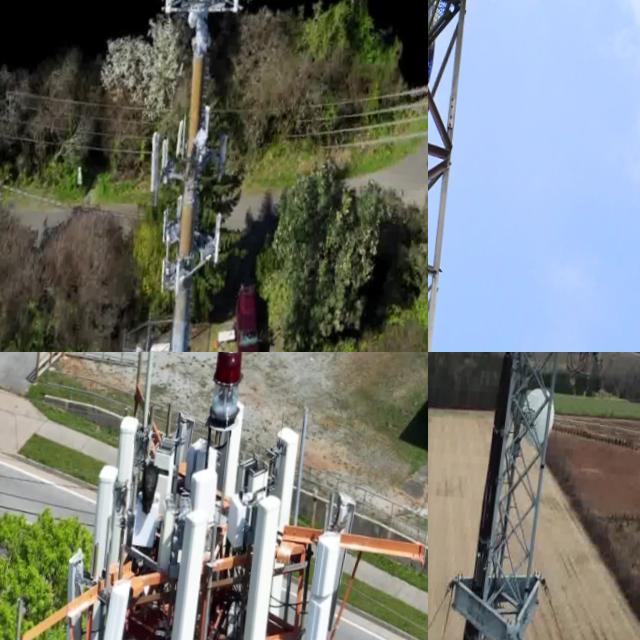GSM Antenna: (231, 494, 289, 640), (157, 498, 214, 640), (263, 416, 306, 551), (298, 525, 344, 640), (47, 540, 92, 640), (87, 461, 123, 576), (108, 405, 140, 507), (86, 577, 131, 640), (137, 128, 164, 210), (213, 135, 232, 201), (155, 199, 175, 252), (156, 254, 172, 302), (155, 0, 179, 30), (210, 219, 223, 270), (156, 140, 171, 180), (199, 106, 211, 150), (173, 194, 183, 242), (225, 0, 250, 19), (174, 119, 186, 158)
Microwave Antenna: (513, 385, 559, 460)
